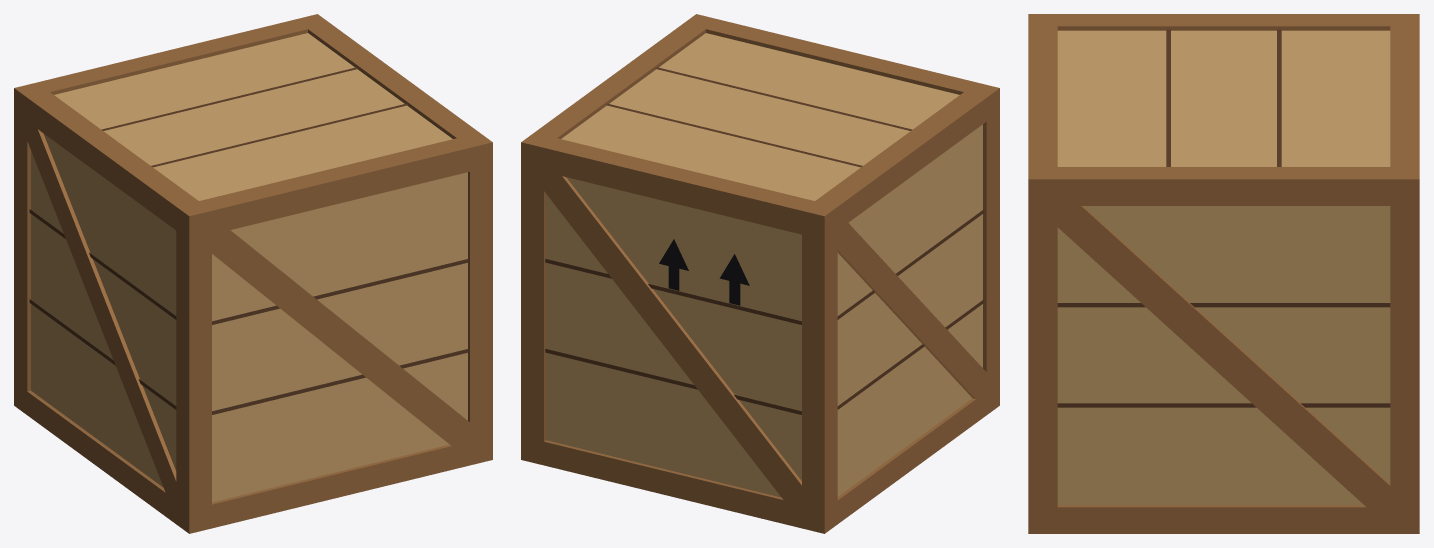
File: prop_crate.glb
The picture shows the model from 3 angles, left to right: view 1: azimuth 30°, elevation 25°; view 2: azimuth 150°, elevation 25°; view 3: azimuth 270°, elevation 25°; orthographic projection. The views are drawn at different scales.
Visible parts, largest first — view 1: prop_crate__mesh; view 2: prop_crate__mesh; view 3: prop_crate__mesh.
Boxes of the visible parts, x1,y1,x2,y2 form: prop_crate__mesh: (14, 14, 492, 533); prop_crate__mesh: (521, 14, 999, 533); prop_crate__mesh: (1028, 14, 1419, 533).
Bounding box in the file's own units: 1 × 1 × 1.
Materials: 1 (1 with a texture image).
